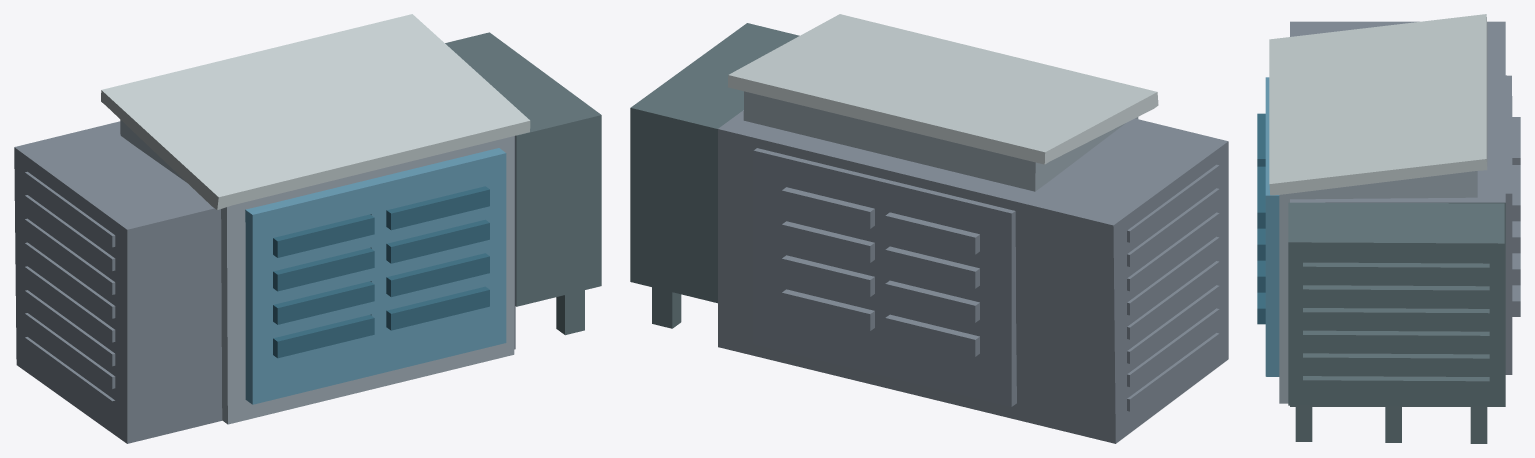
Rendered from building22.glb.
3 renders of one model, left to right at view 1: azimuth 30°, elevation 25°; view 2: azimuth 150°, elevation 25°; view 3: azimuth 270°, elevation 25°, orthographic. The views are drawn at different scales.
Visible parts, largest first — view 1: Cube, Roof, FrontWindow, LeftSide, OuterFrontwindow, Centerpart; view 2: Cube, Roof, LeftSide, Centerpart; view 3: LeftSide, Roof, Cube, Centerpart, FrontWindow, OuterFrontwindow.
Part boxes in pixels (bbox=[...]): Cube: bbox=[14, 121, 515, 443]; Roof: bbox=[101, 14, 530, 210]; FrontWindow: bbox=[245, 148, 506, 404]; LeftSide: bbox=[445, 32, 601, 335]; OuterFrontwindow: bbox=[273, 186, 489, 358]; Centerpart: bbox=[120, 120, 514, 424]; Cube: bbox=[718, 110, 1228, 443]; Roof: bbox=[728, 14, 1158, 164]; LeftSide: bbox=[630, 23, 799, 328]; Centerpart: bbox=[743, 91, 1138, 191]; LeftSide: bbox=[1288, 202, 1505, 443]; Roof: bbox=[1269, 14, 1487, 195]; Cube: bbox=[1290, 21, 1520, 374]; Centerpart: bbox=[1279, 171, 1477, 403]; FrontWindow: bbox=[1265, 77, 1279, 376]; OuterFrontwindow: bbox=[1257, 113, 1265, 324].
Size of the model in its own units: 18.58 by 9.74 by 9.3.
